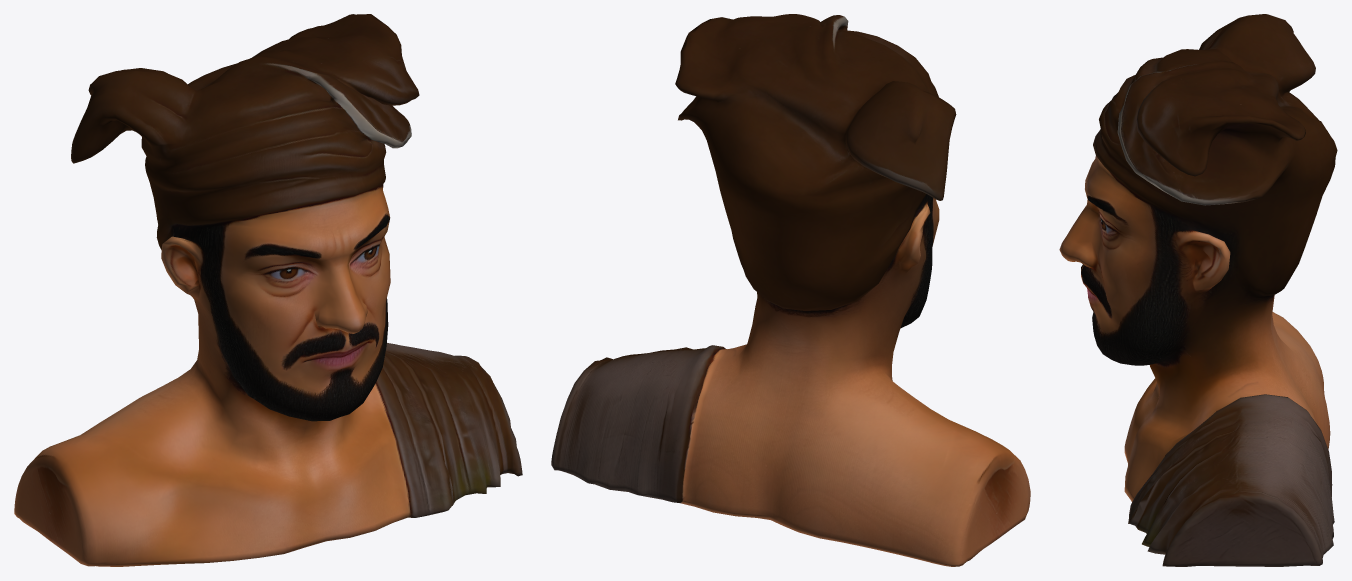
The model's file is sisingamaraja.glb.
3 renders of one model, left to right at view 1: azimuth 30°, elevation 25°; view 2: azimuth 150°, elevation 25°; view 3: azimuth 270°, elevation 25°, orthographic. The views are drawn at different scales.
Visible parts, largest first — view 1: model; view 2: model; view 3: model.
Part boxes in pixels (x1,y1,x2,y2): model: [14, 14, 522, 566]; model: [551, 14, 1030, 566]; model: [1059, 14, 1337, 566].
Bounding box in the file's own units: 1.85 × 1.89 × 1.17.
Materials: 1 (1 with a texture image).
